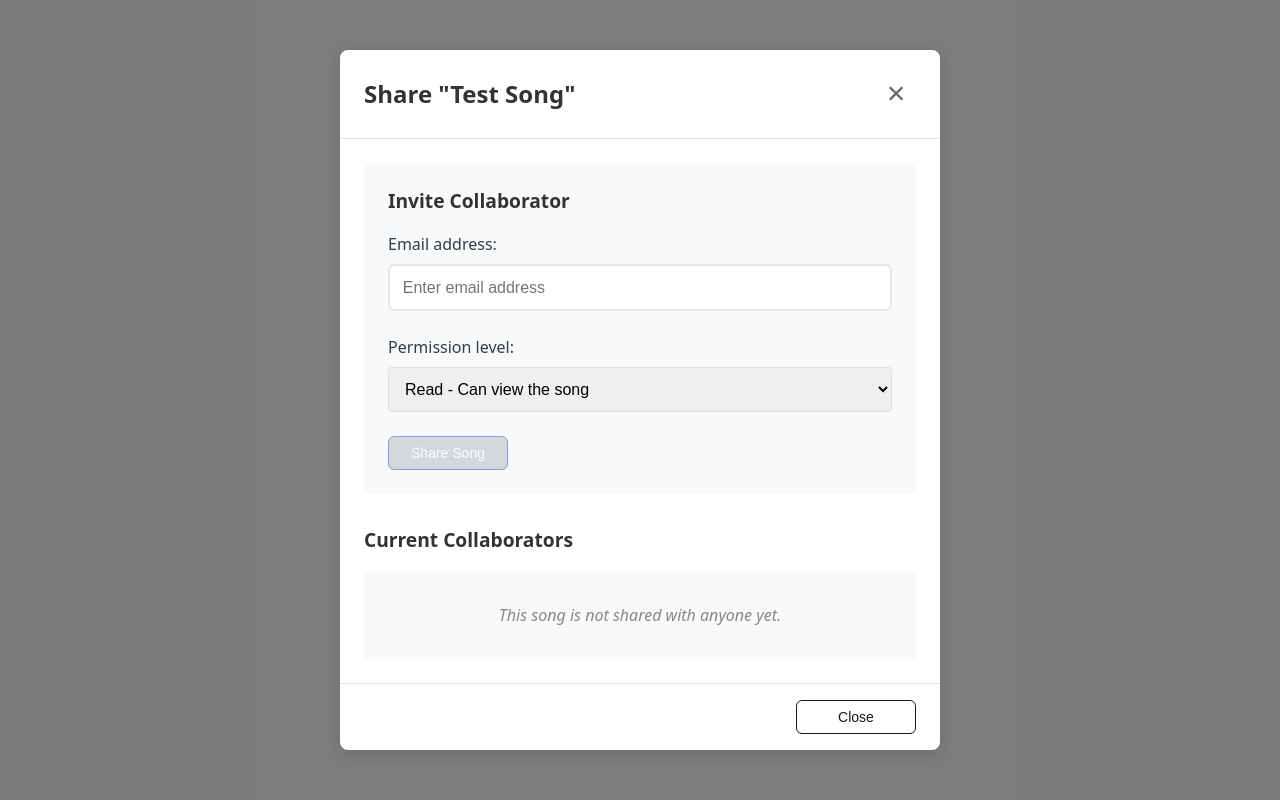
Test: SongSharingModal › handles sharing a song successfully
Type "test@example.com" into the field labelled "Email address:" at (640,288), box [388,264,892,311]
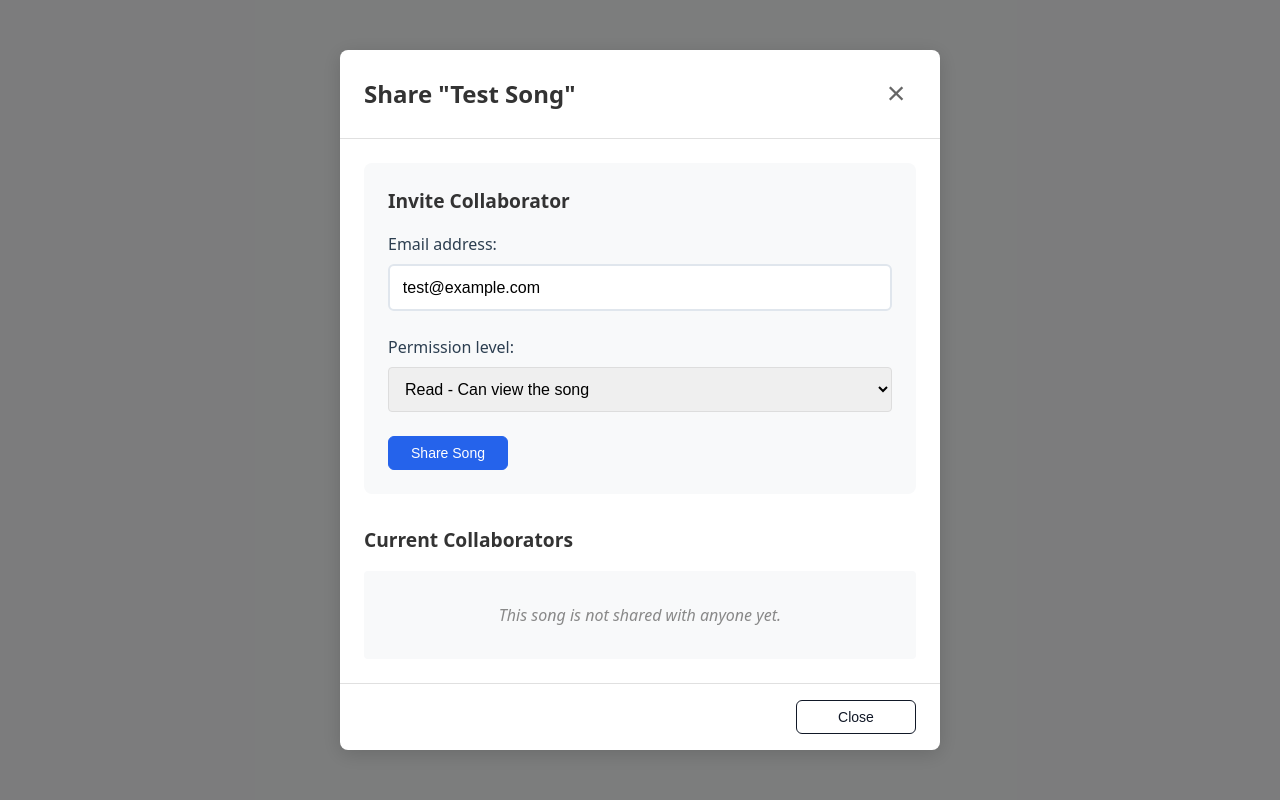
Select "Edit - Can view and modify the song" in the dropdown labelled "Permission level:" at (640,390), box [388,367,892,412]
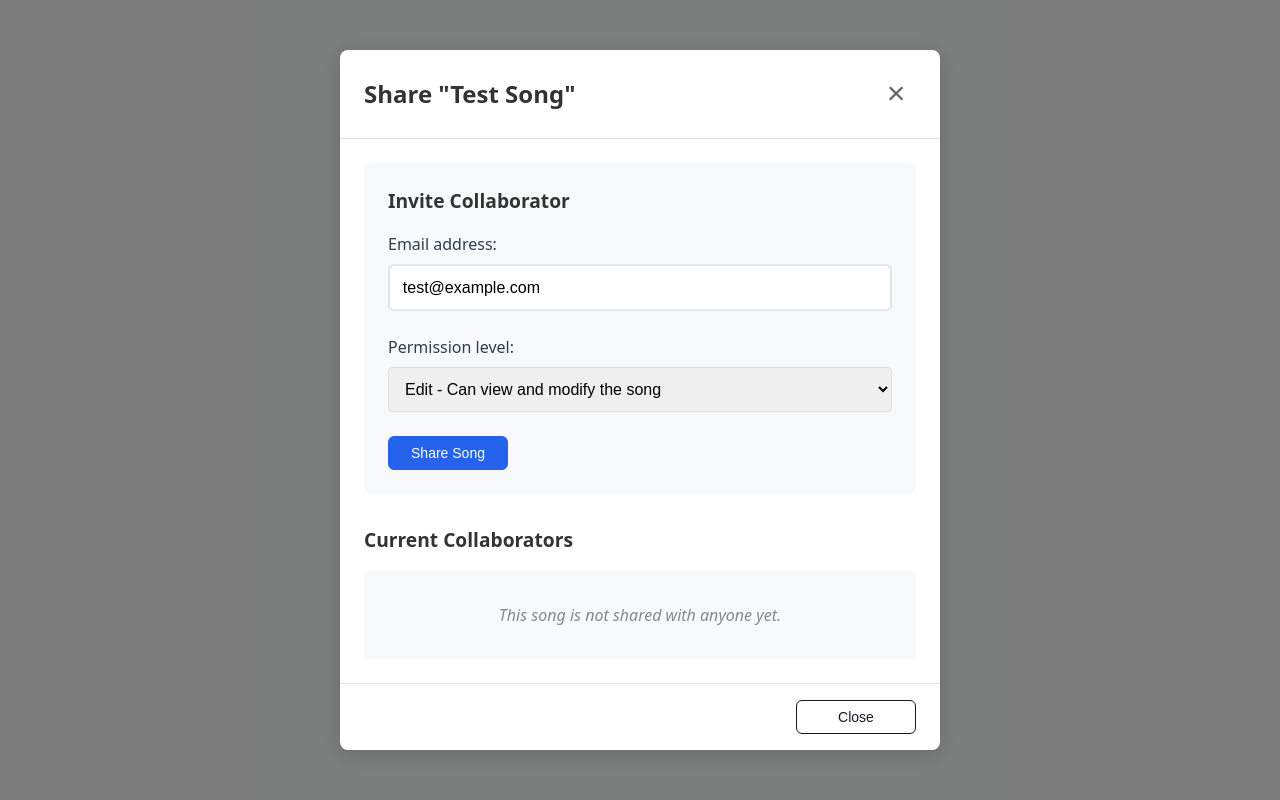
Click the button "Share Song" at (448,453), box [388,436,508,470]
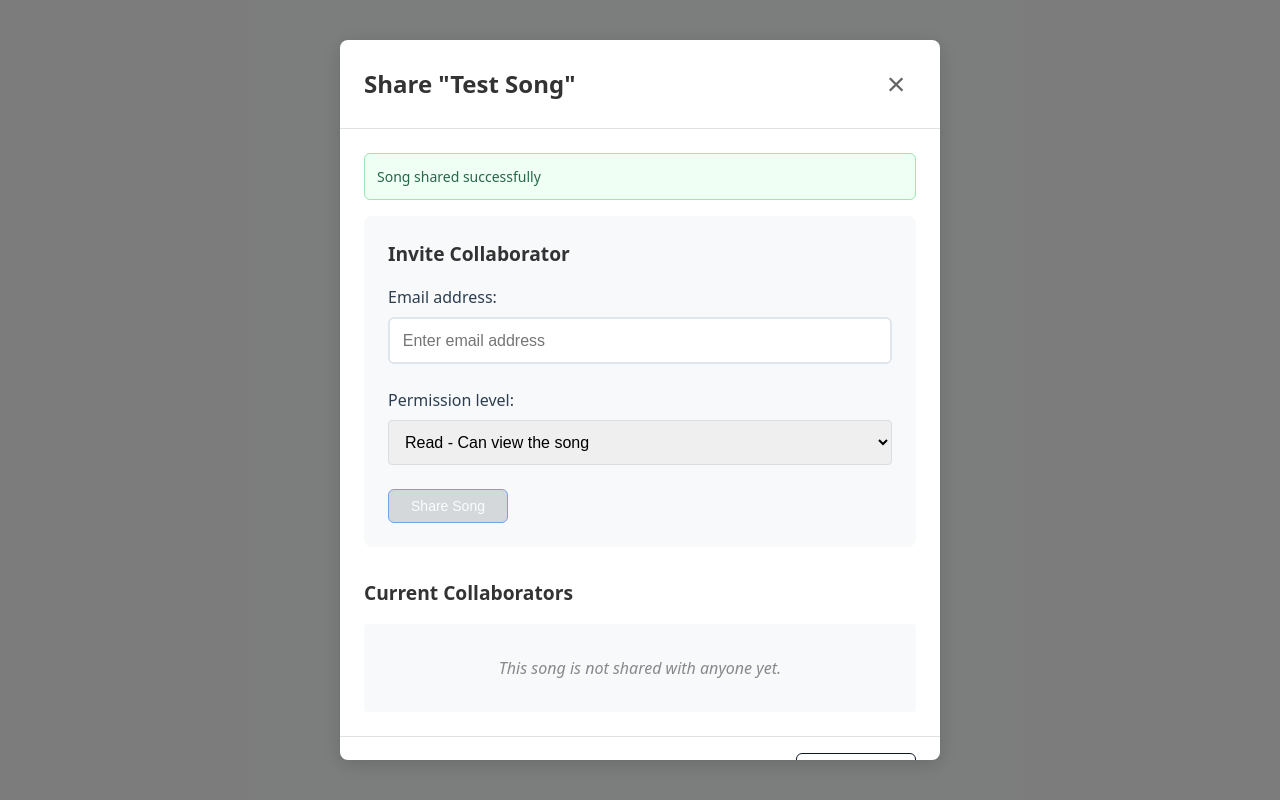
Check: the text "Song shared successfully" is shown, box [364,153,916,200]
